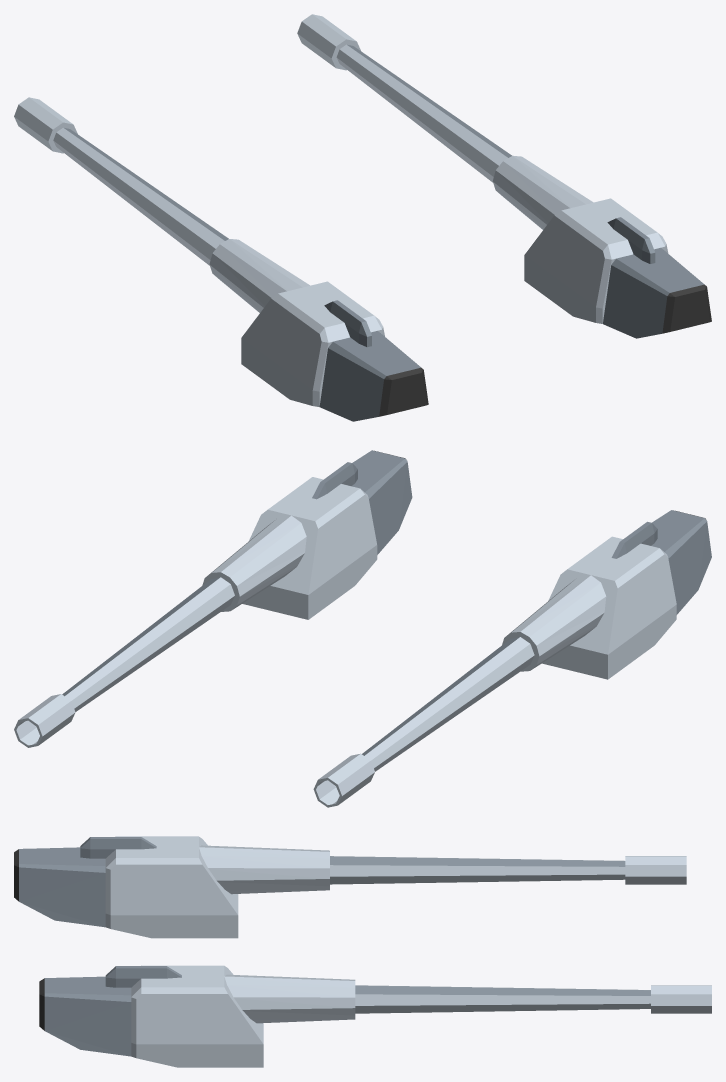
Rendered from houdaiiii.FBX.
3 renders of one model, top to bottom at view 1: azimuth 30°, elevation 25°; view 2: azimuth 150°, elevation 25°; view 3: azimuth 270°, elevation 25°, orthographic. The views are drawn at different scales.
Visible parts, largest first — view 1: VIFS001, VIFS004, VIFS005, VIFS002, VIFS006, VIFS003; view 2: VIFS001, VIFS004, VIFS005, VIFS002; view 3: VIFS004, VIFS001, VIFS002, VIFS005.
Part boxes in pixels (bbox=[...]): VIFS001: bbox=[297, 14, 668, 323]; VIFS004: bbox=[14, 97, 384, 406]; VIFS005: bbox=[64, 128, 420, 421]; VIFS002: bbox=[347, 44, 704, 338]; VIFS006: bbox=[379, 367, 428, 416]; VIFS003: bbox=[662, 284, 711, 333]; VIFS001: bbox=[14, 477, 377, 747]; VIFS004: bbox=[313, 536, 676, 807]; VIFS005: bbox=[362, 510, 711, 755]; VIFS002: bbox=[62, 450, 412, 696]; VIFS004: bbox=[105, 836, 686, 938]; VIFS001: bbox=[131, 965, 711, 1067]; VIFS002: bbox=[44, 966, 650, 1056]; VIFS005: bbox=[19, 837, 625, 927].
Size of the model in its own units: 0.2036 by 0.0482 by 0.3671.
